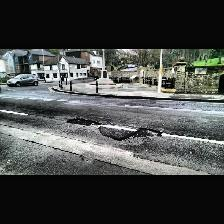pothole: (135, 127, 163, 137), (67, 118, 99, 126)
